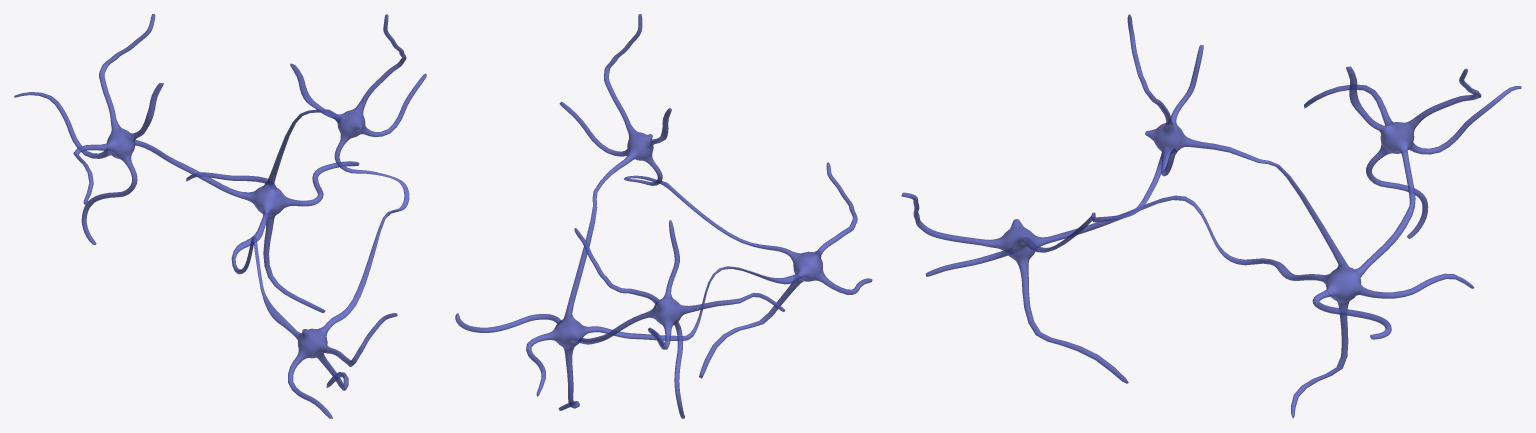
File: CZ_NeuronCluster01.fbx
3 views of the same model, side by side, from view 1: azimuth 30°, elevation 25°; view 2: azimuth 150°, elevation 25°; view 3: azimuth 270°, elevation 25° (orthographic). The views are drawn at different scales.
Parts seen in each view (by area): view 1: CZ_NeuronCluster_01; view 2: CZ_NeuronCluster_01; view 3: CZ_NeuronCluster_01.
Boxes of the visible parts, left/top/right/bottom form: CZ_NeuronCluster_01: left=14, top=14, right=426, bottom=418; CZ_NeuronCluster_01: left=455, top=14, right=872, bottom=418; CZ_NeuronCluster_01: left=901, top=14, right=1521, bottom=418.
Bounding box in the file's own units: 6.92 × 7.74 × 10.79.
